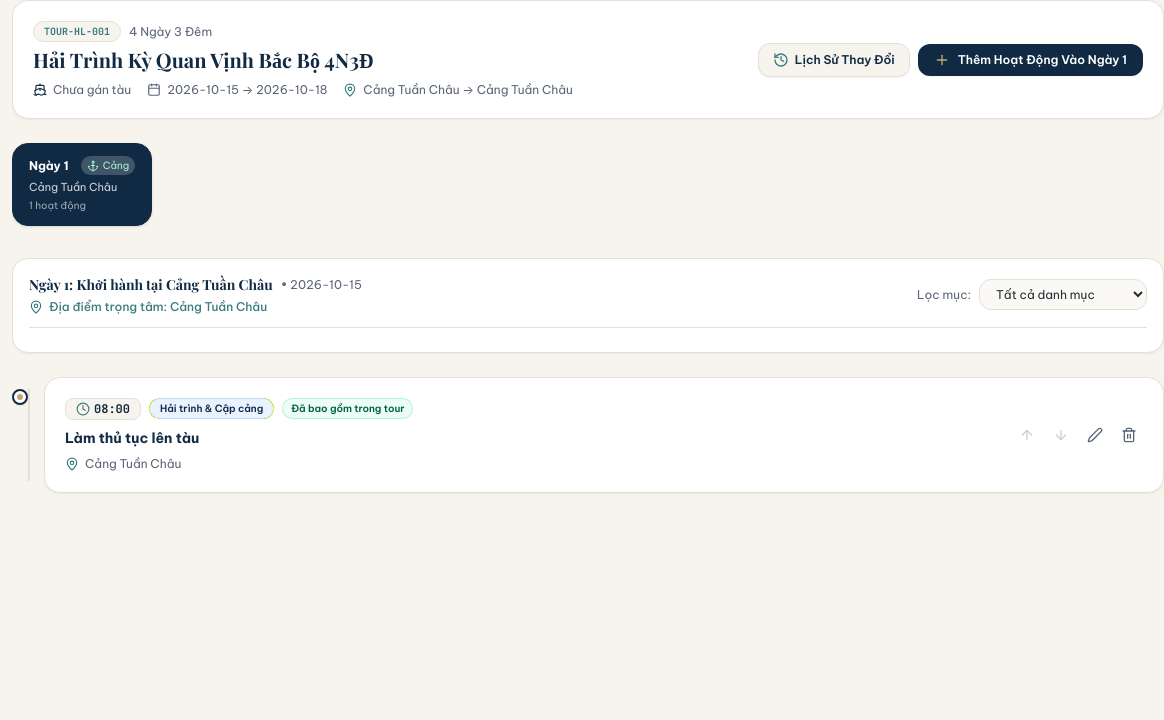
Test: Itinerary Validation and Error States (KAN-122) › DailyItineraryTimeline - Empty and Fallback States › displays empty state when filtered category has no matching activities
Check: the heading "Làm thủ tục lên tàu" is shown, box [65,428,199,446]
Select "Spa & Thư giãn" in the dropdown named "Lọc hoạt động theo loại" at [1063, 294], box [979,279,1147,310]
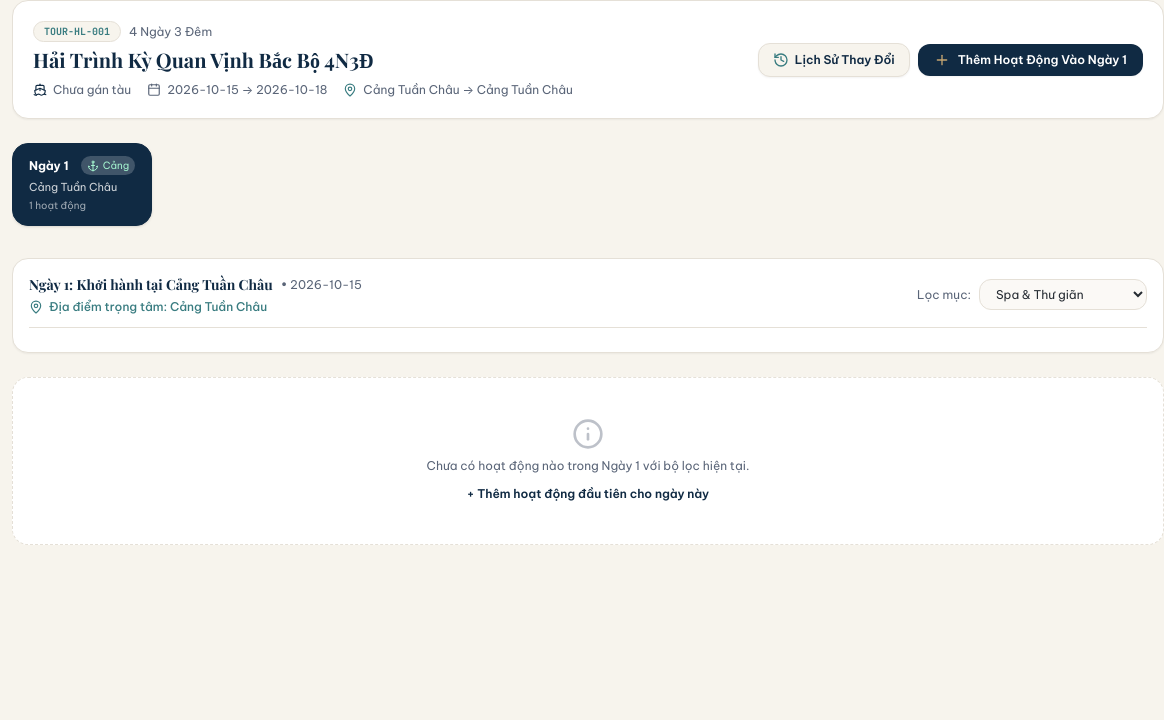
Check: the heading "Làm thủ tục lên tàu" is gone
Check: the text "Chưa có hoạt động nào trong Ngày 1 với bộ lọc hiện tại." is shown, box [427,458,749,472]
